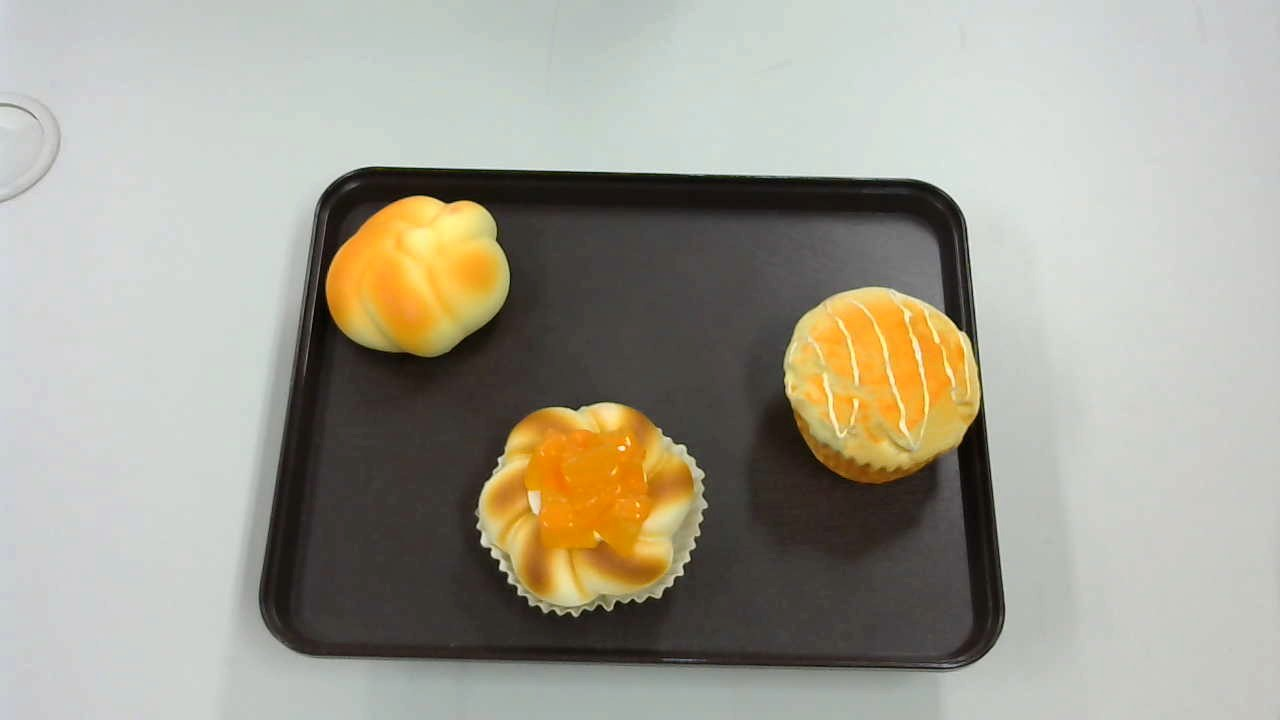croissant: (327, 195, 511, 358)
cupcake: (784, 287, 981, 487)
mango tart: (475, 402, 705, 617)
